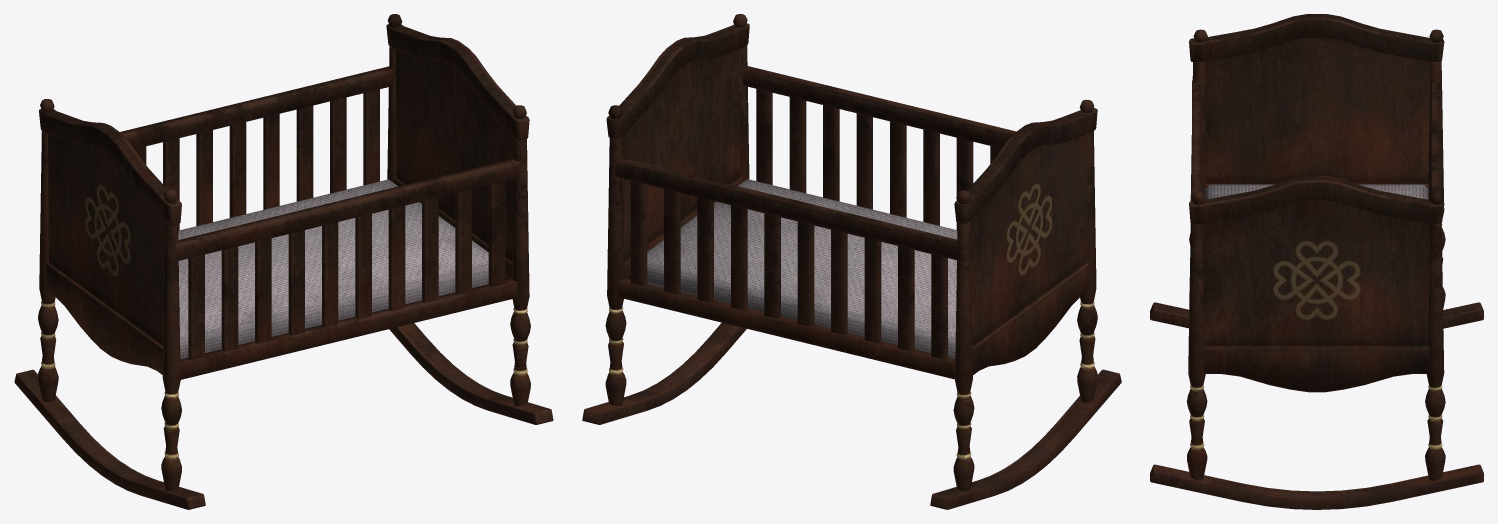
3 views of the same model, side by side, from view 1: azimuth 30°, elevation 25°; view 2: azimuth 150°, elevation 25°; view 3: azimuth 270°, elevation 25° (orthographic). The views are drawn at different scales.
Parts seen in each view (by area): view 1: Crib; view 2: Crib; view 3: Crib.
Part boxes in pixels (<box>): Crib: <box>14,14,553,509</box>; Crib: <box>582,14,1121,509</box>; Crib: <box>1150,14,1483,509</box>.
Size of the model in its own units: 2 by 1.79 by 1.65.
1 material, 1 textured.
